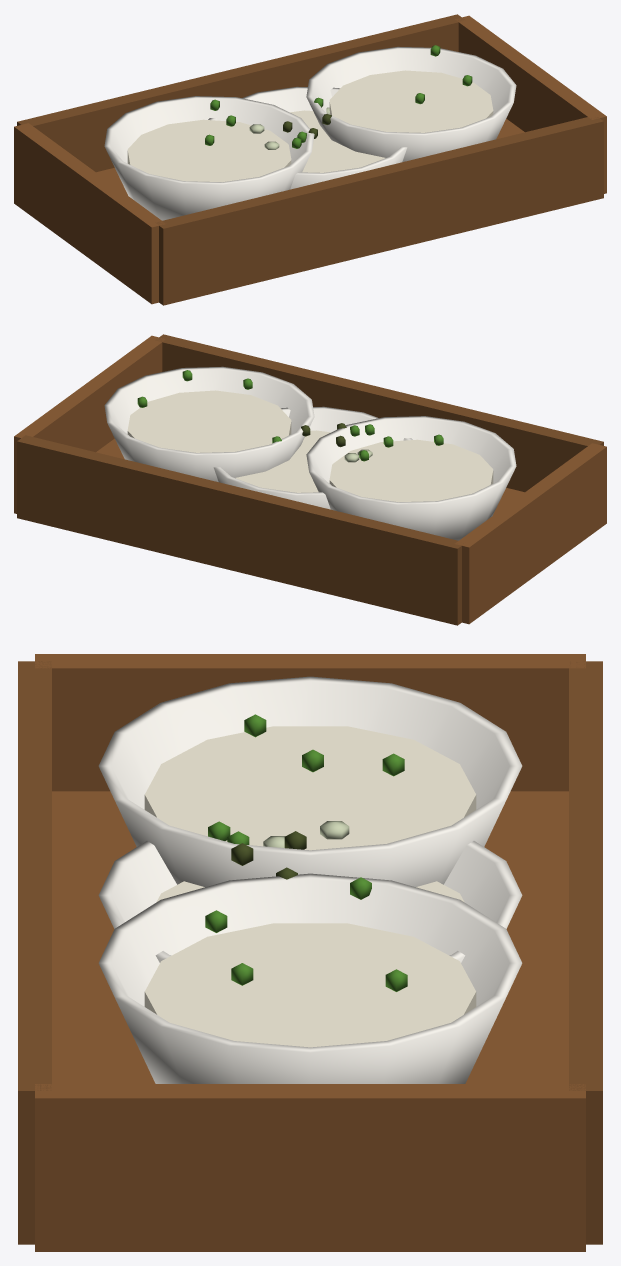
File: Dish_Porridge.fbx
The picture shows the model from 3 angles, top to bottom: view 1: azimuth 30°, elevation 25°; view 2: azimuth 150°, elevation 25°; view 3: azimuth 270°, elevation 25°; orthographic projection. The views are drawn at different scales.
Visible parts, largest first — view 1: Dish_Porridge__Stack, Dish_Porridge, Dish_Porridge__Rotten; view 2: Dish_Porridge__Stack, Dish_Porridge, Dish_Porridge__Rotten; view 3: Dish_Porridge__Stack, Dish_Porridge, Dish_Porridge__Rotten.
Boxes of the visible parts, <box> form: Dish_Porridge__Stack: <box>14,14,606,305</box>; Dish_Porridge: <box>208,86,407,189</box>; Dish_Porridge__Rotten: <box>249,107,331,149</box>; Dish_Porridge__Stack: <box>14,334,606,625</box>; Dish_Porridge: <box>213,406,412,509</box>; Dish_Porridge__Rotten: <box>301,423,372,462</box>; Dish_Porridge__Stack: <box>18,654,602,1251</box>; Dish_Porridge: <box>98,821,522,962</box>; Dish_Porridge__Rotten: <box>231,821,349,879</box>.
Size of the model in its own units: 0.248 by 0.053 by 0.138.
